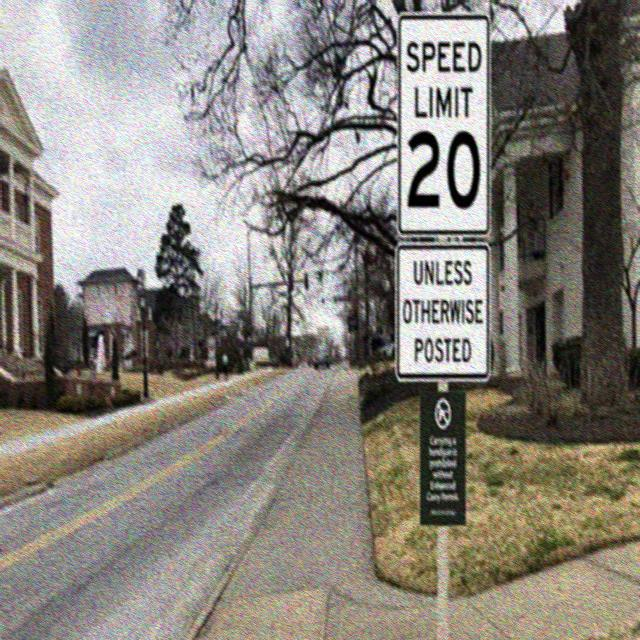speedLimit20: (398, 20, 486, 232)
